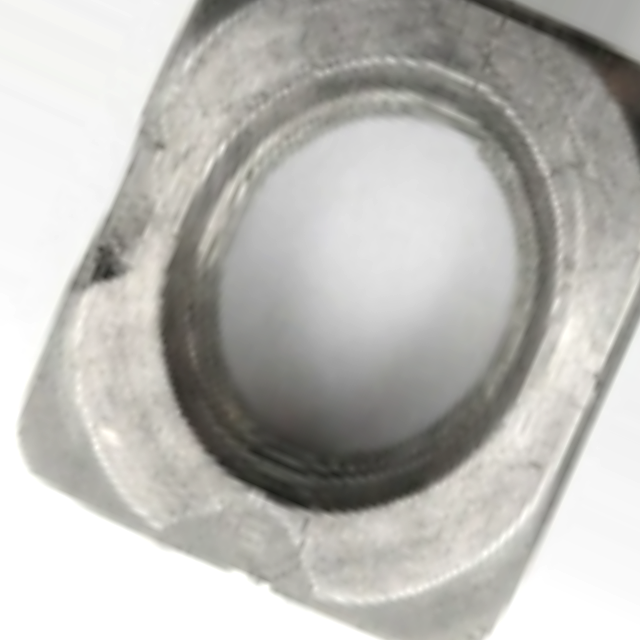defect: (74, 96, 164, 286), (157, 505, 315, 608)
